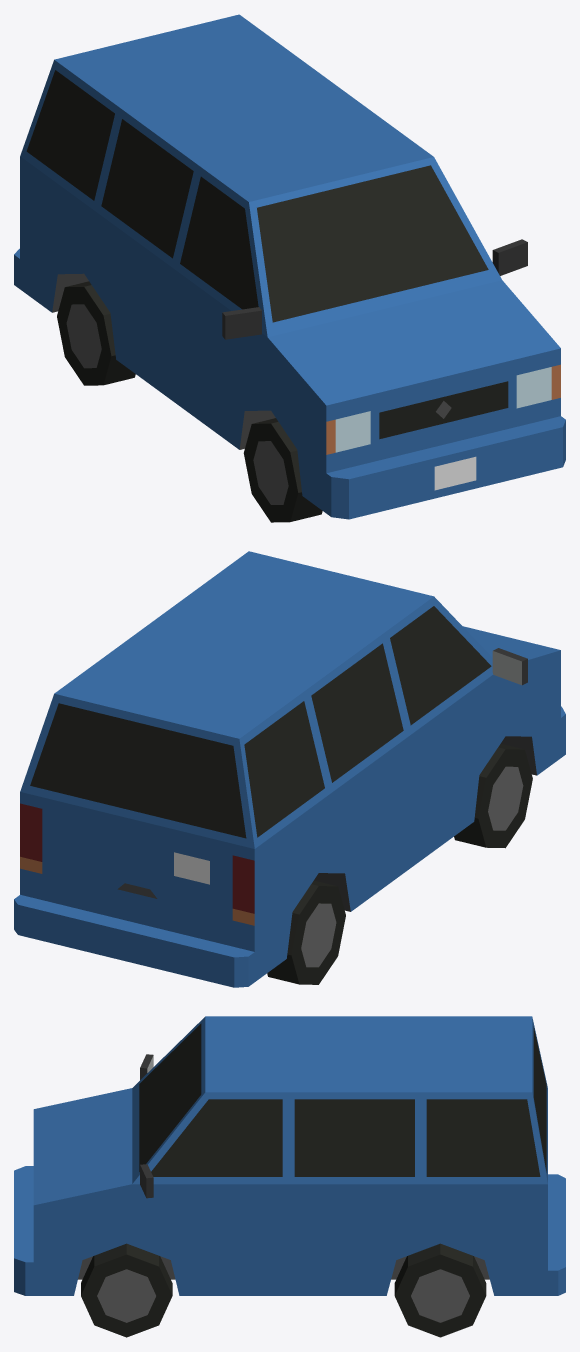
Rendered from Veh_Minivan_Blue.obj.
3 views of the same model, one above another, from view 1: azimuth 30°, elevation 25°; view 2: azimuth 150°, elevation 25°; view 3: azimuth 270°, elevation 25° (orthographic). The views are drawn at different scales.
Size of the model in its own units: 1.31 by 1.16 by 2.46.
